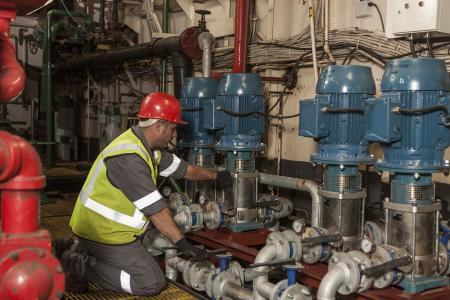helmet: (132, 89, 188, 150)
